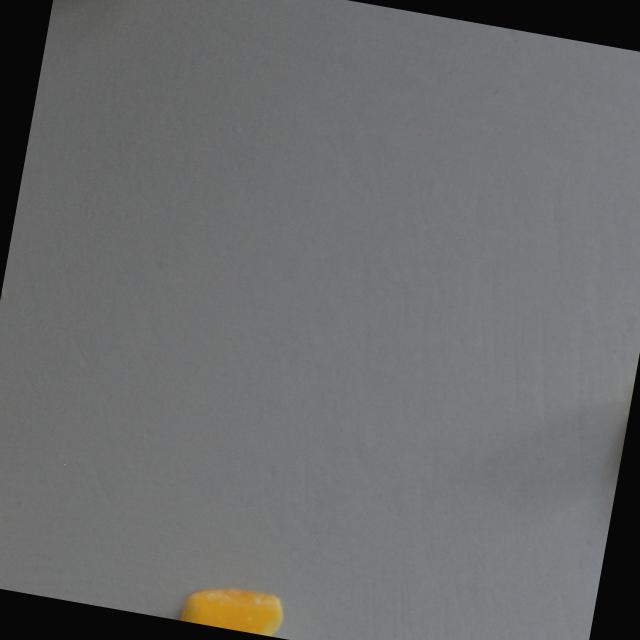pelicula: (173, 578, 303, 640)
